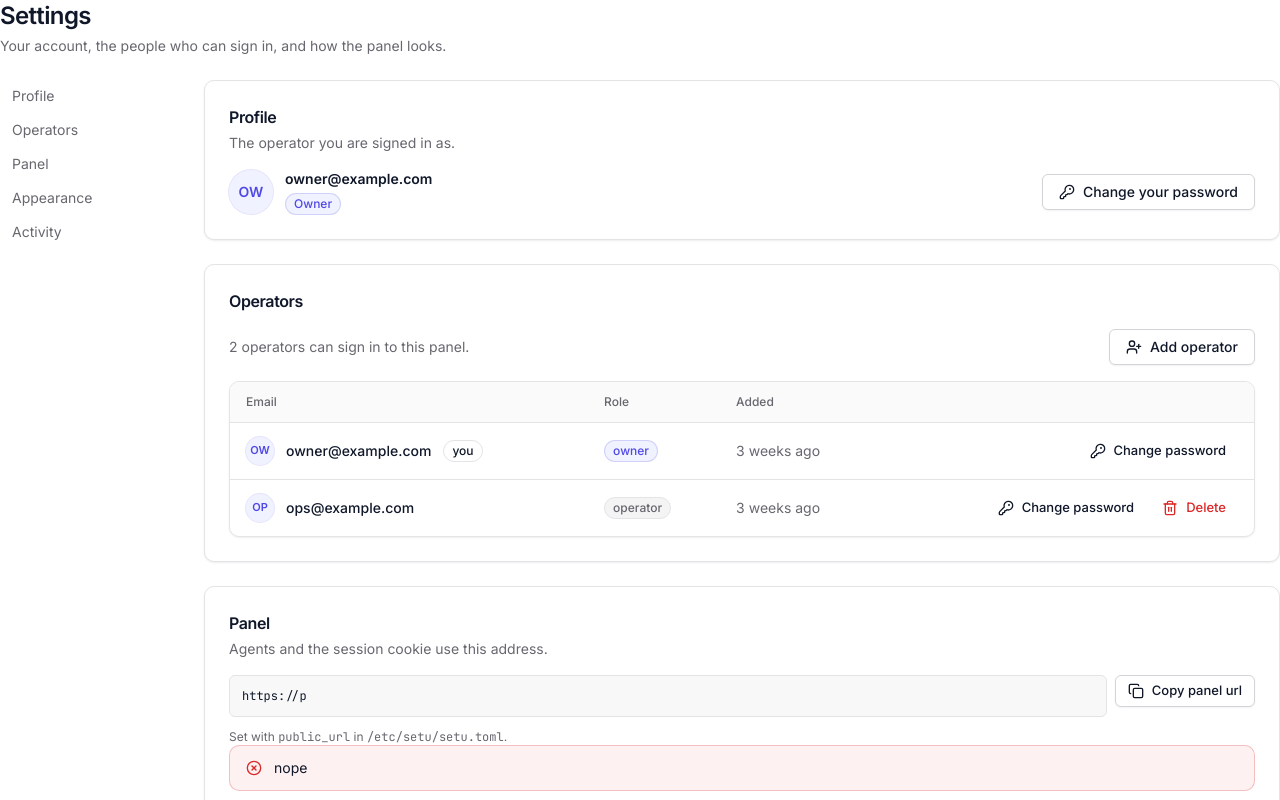
settings › password change refuses a mismatched confirmation locally
Click the button "Change password" in the row of "ops@example.com" at (1066, 508), box [986,492,1146,524]
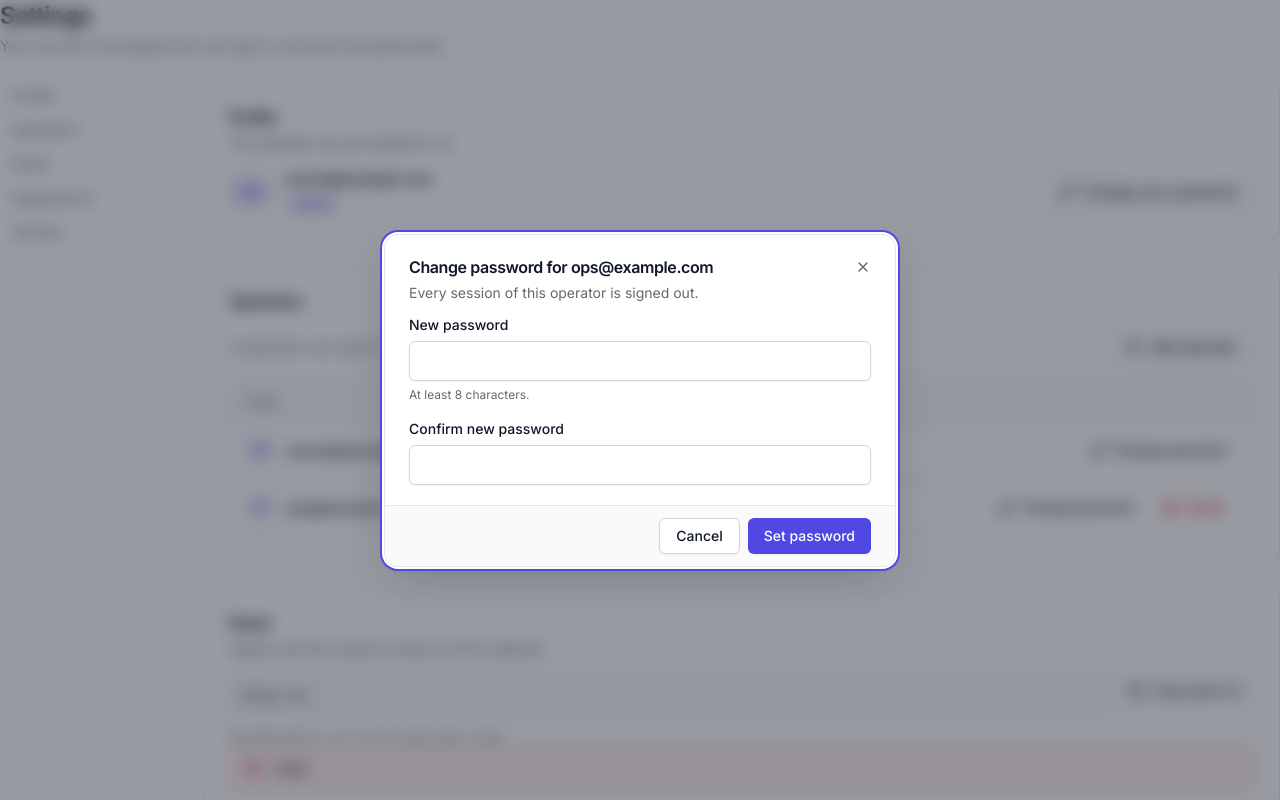
Type "brand-new-pass" into the password field labelled "New password" at (640, 360), box [409,340,871,380]
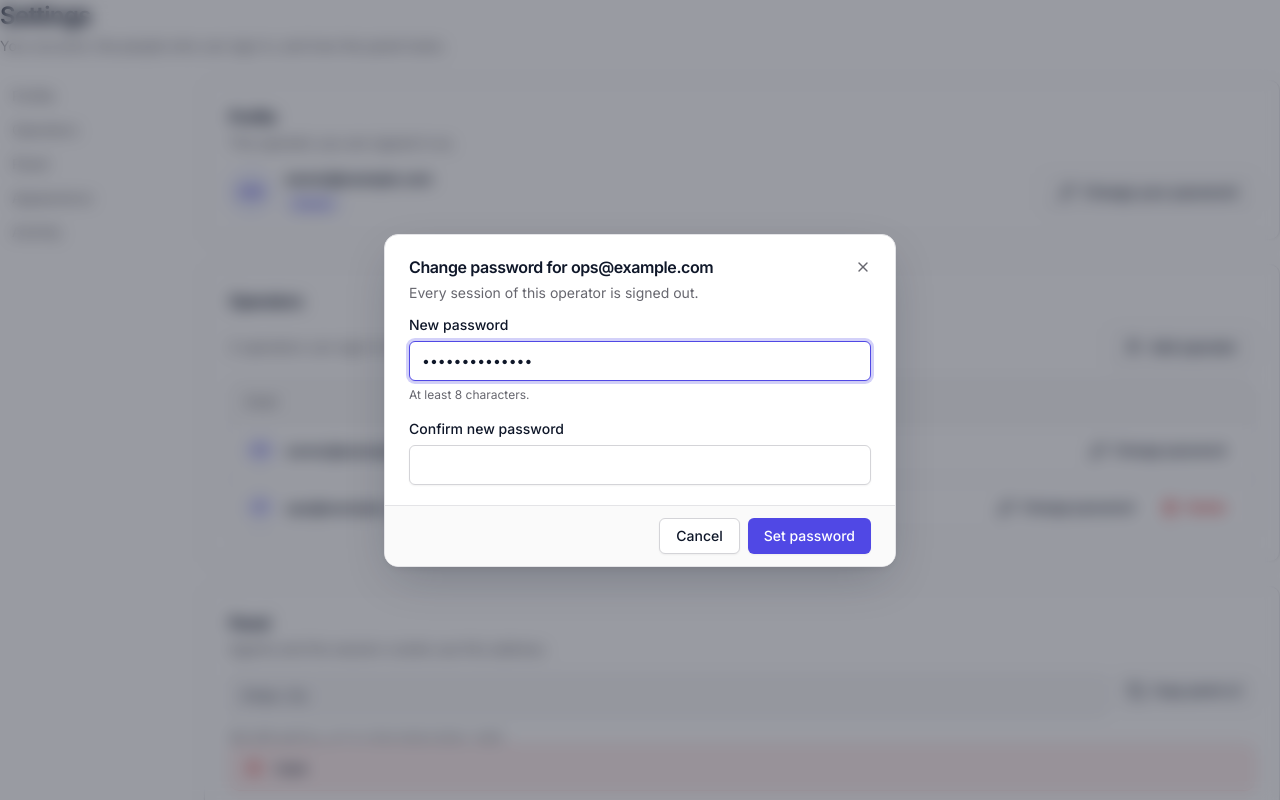
Type "brand-new-typo" into the password field labelled "Confirm new password" at (640, 464), box [409,444,871,484]
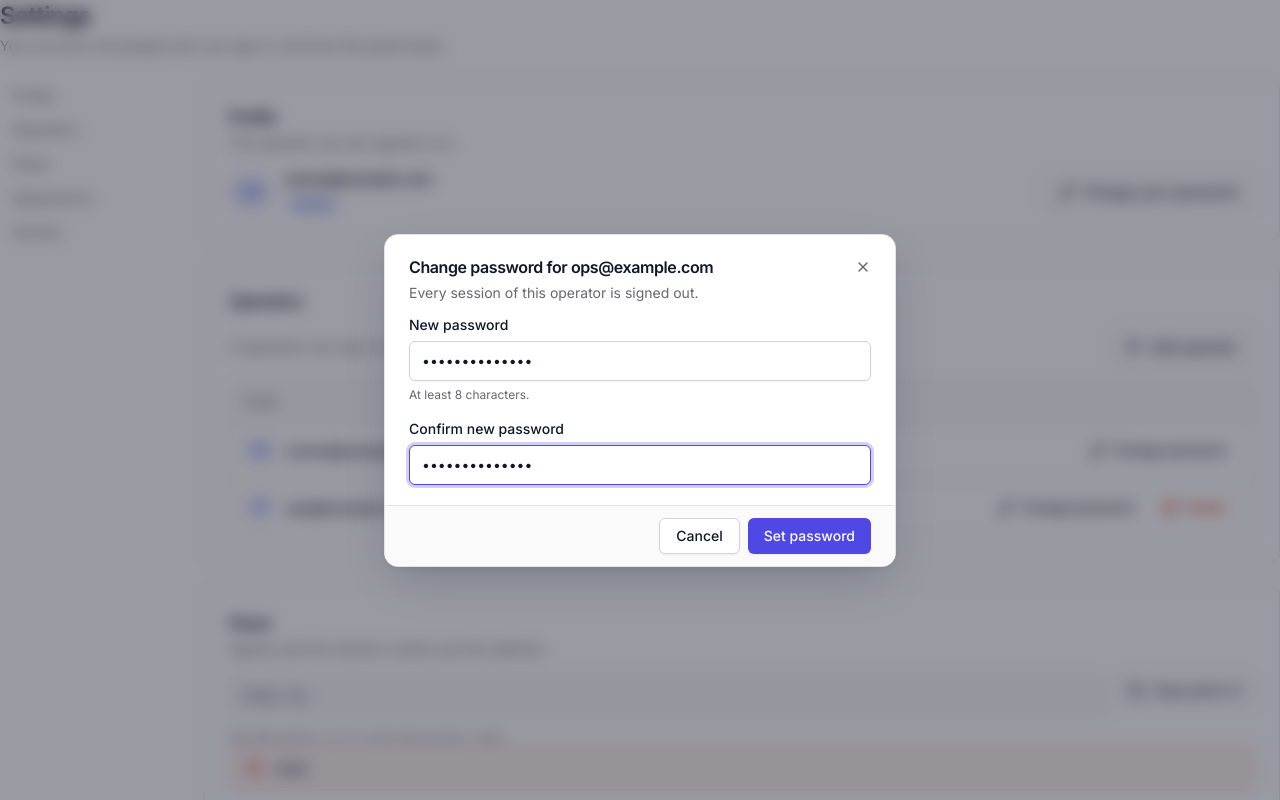
Click the button "Set password" at (809, 536), box [748,518,871,554]
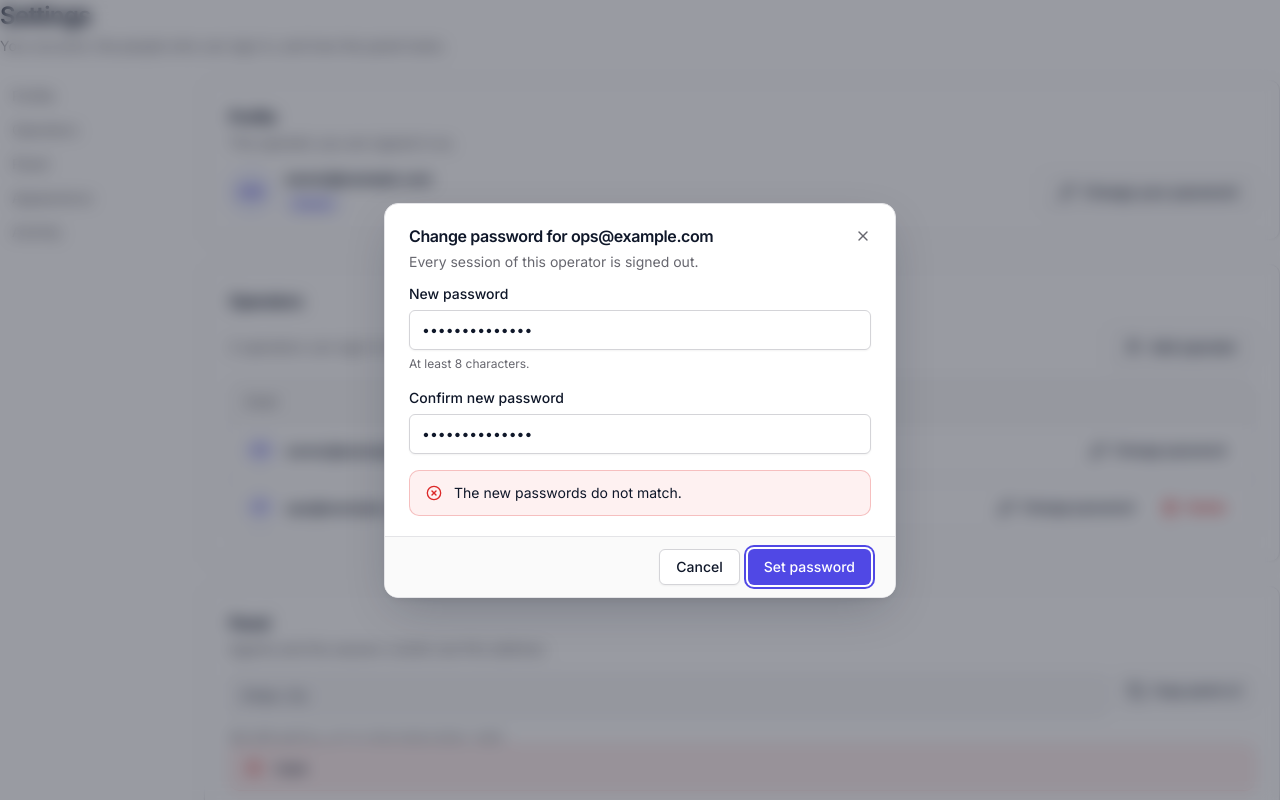
Result: the message shows "do not match" at [454,484,682,500]
